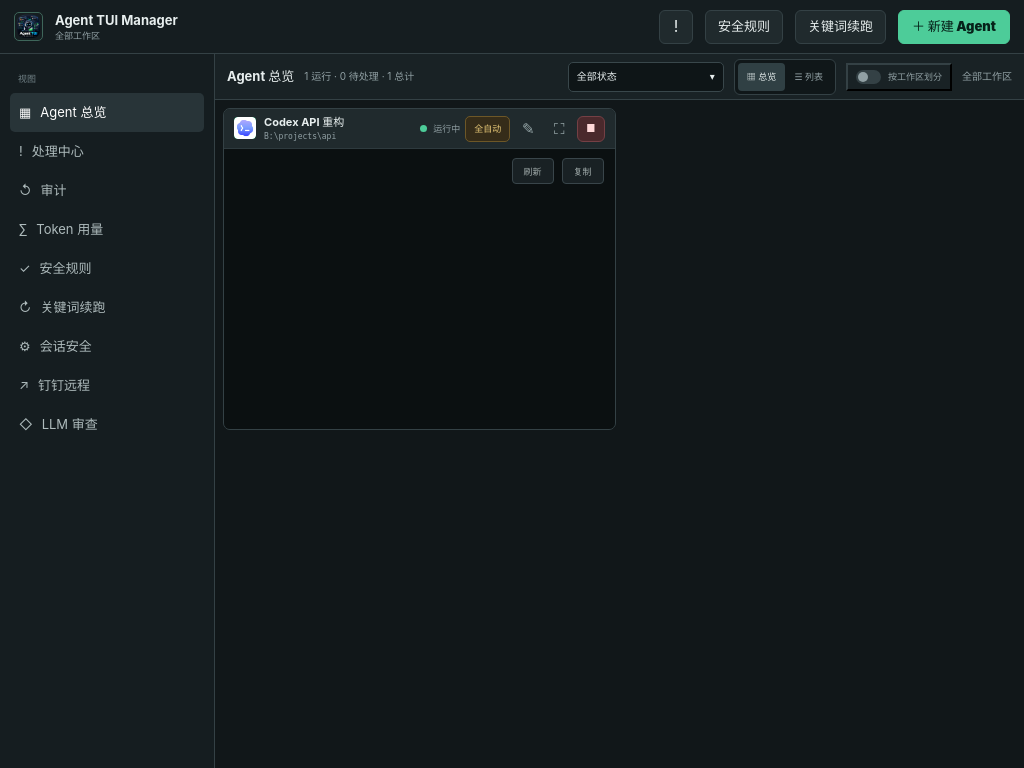
App terminal wall › closes the approval rules drawer only on a real double-click of the backdrop
Check: the heading "Codex API 重构" is shown, box [264,115,344,131]
Click the button "安全规则": {"x": 744, "y": 26} [705,10,783,44]
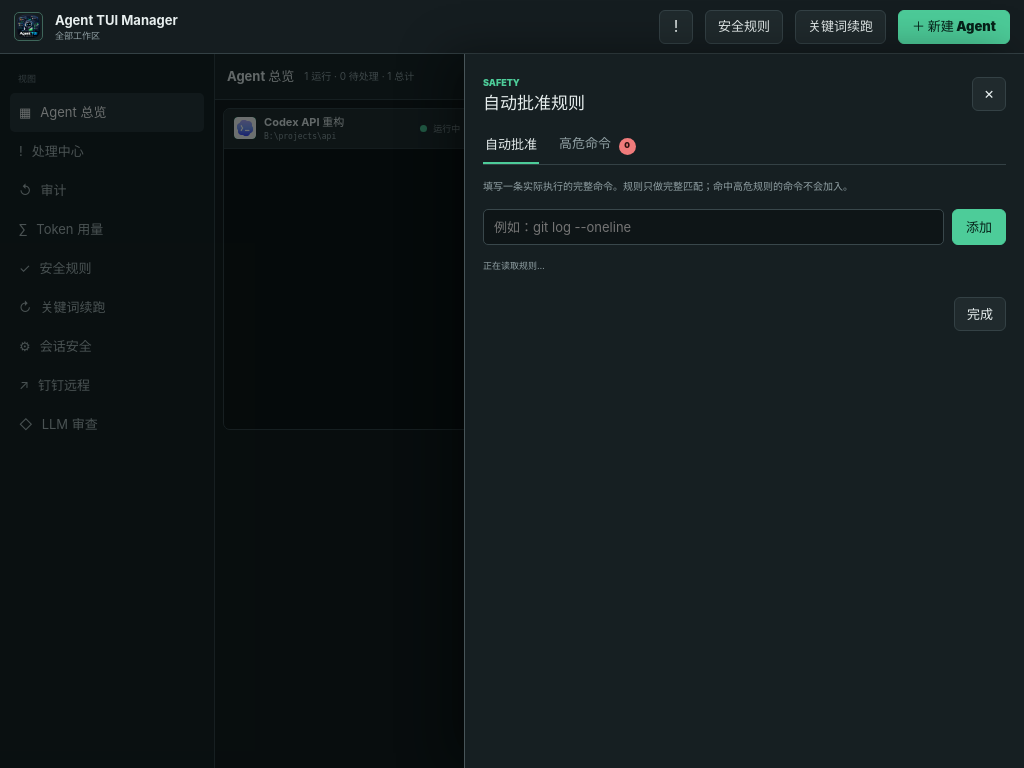
Check: the element with class "modal-backdrop" is shown
Press the mouse on the element with class "modal-backdrop": {"x": 512, "y": 411} [0,54,1023,767]
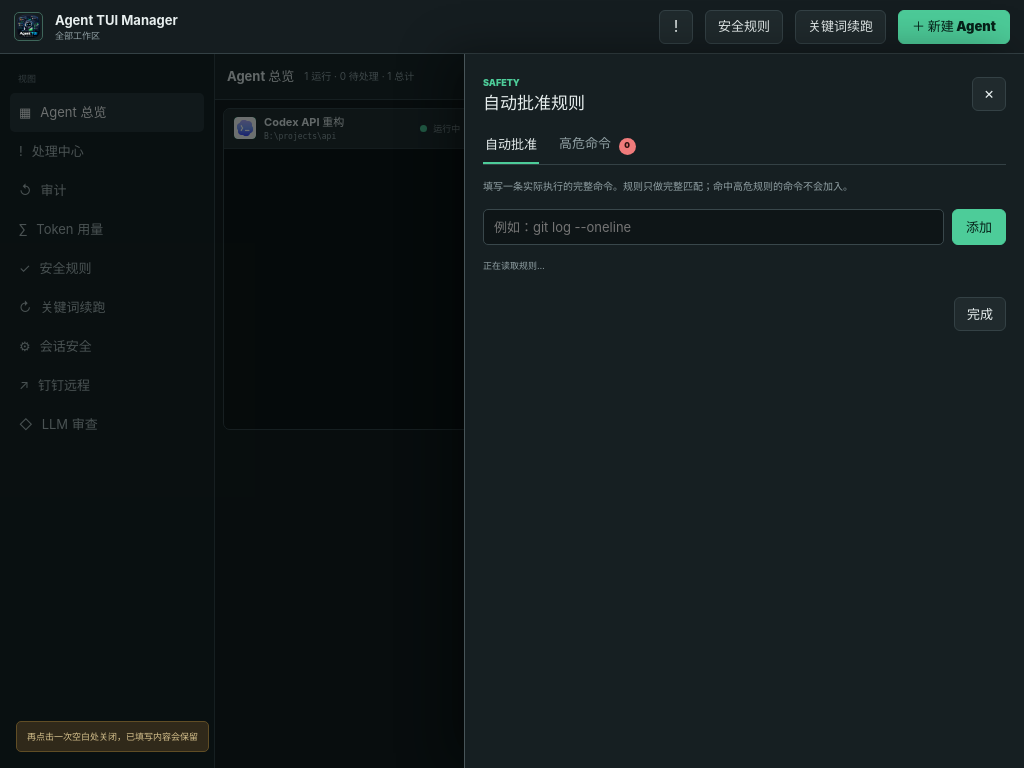
Press the mouse on the element with class "modal-backdrop": {"x": 512, "y": 411} [0,54,1023,767]
Check: the heading "自动批准规则" is shown, box [483,91,585,115]
Double-click the element with class "modal-backdrop": {"x": 512, "y": 411} [0,54,1023,767]
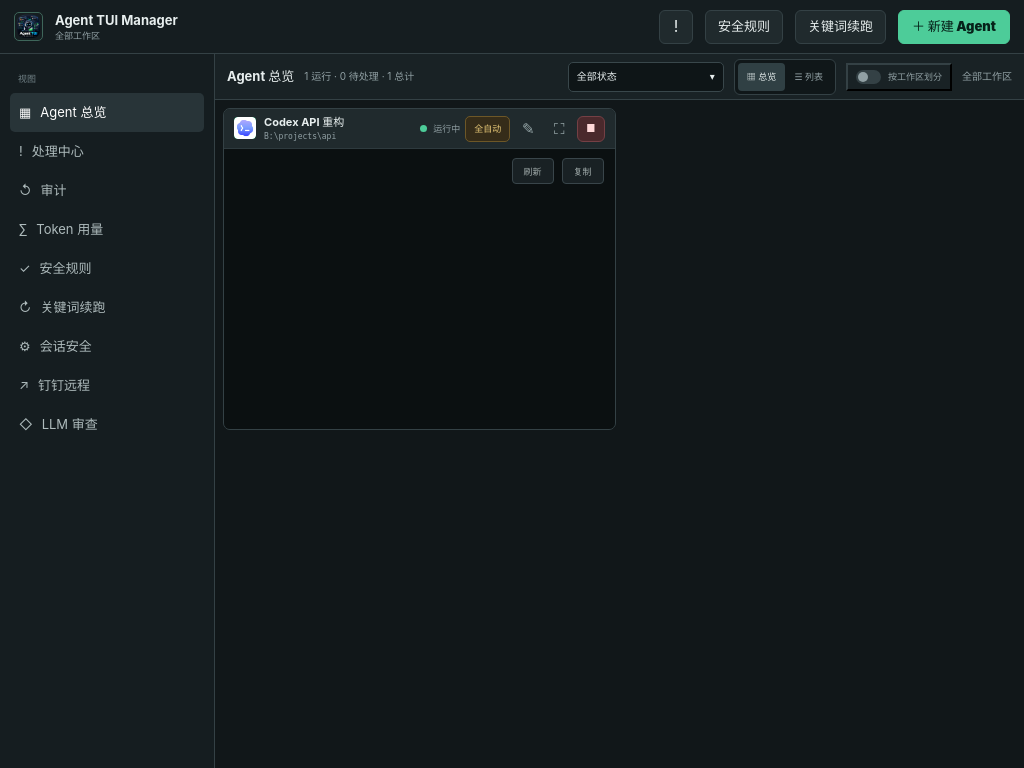
Check: the heading "自动批准规则" is gone
